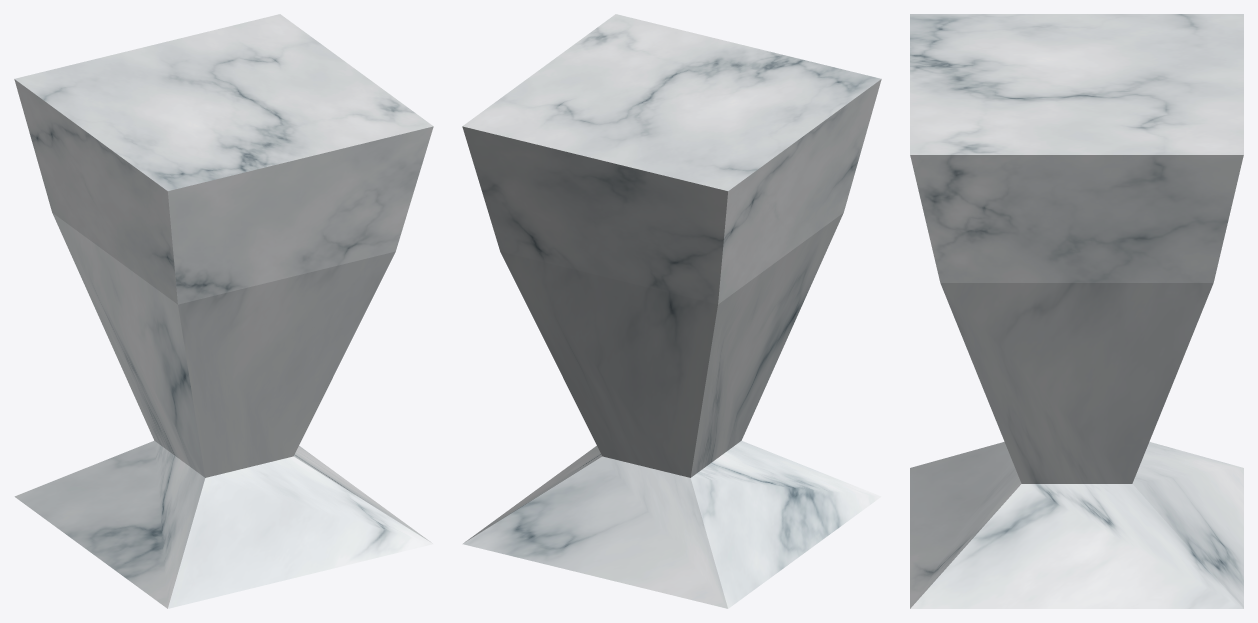
Rendered from Display Pedistal (Low Poly).gltf.
The picture shows the model from 3 angles, left to right: view 1: azimuth 30°, elevation 25°; view 2: azimuth 150°, elevation 25°; view 3: azimuth 270°, elevation 25°; orthographic projection. The views are drawn at different scales.
Visible parts, largest first — view 1: Cube; view 2: Cube; view 3: Cube.
Boxes of the visible parts, <box> form: Cube: <box>14,14,433,608</box>; Cube: <box>462,14,881,608</box>; Cube: <box>910,14,1243,608</box>.
Size of the model in its own units: 2 by 3 by 2.
Materials: 1 (1 with a texture image).
